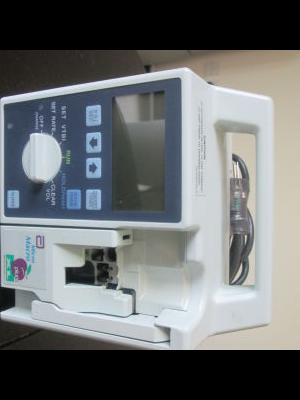plumxl1: (4, 70, 282, 345)
